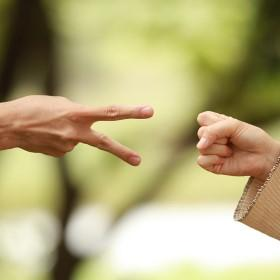gu-: (196, 109, 269, 177)
tyoki: (17, 94, 156, 167)
